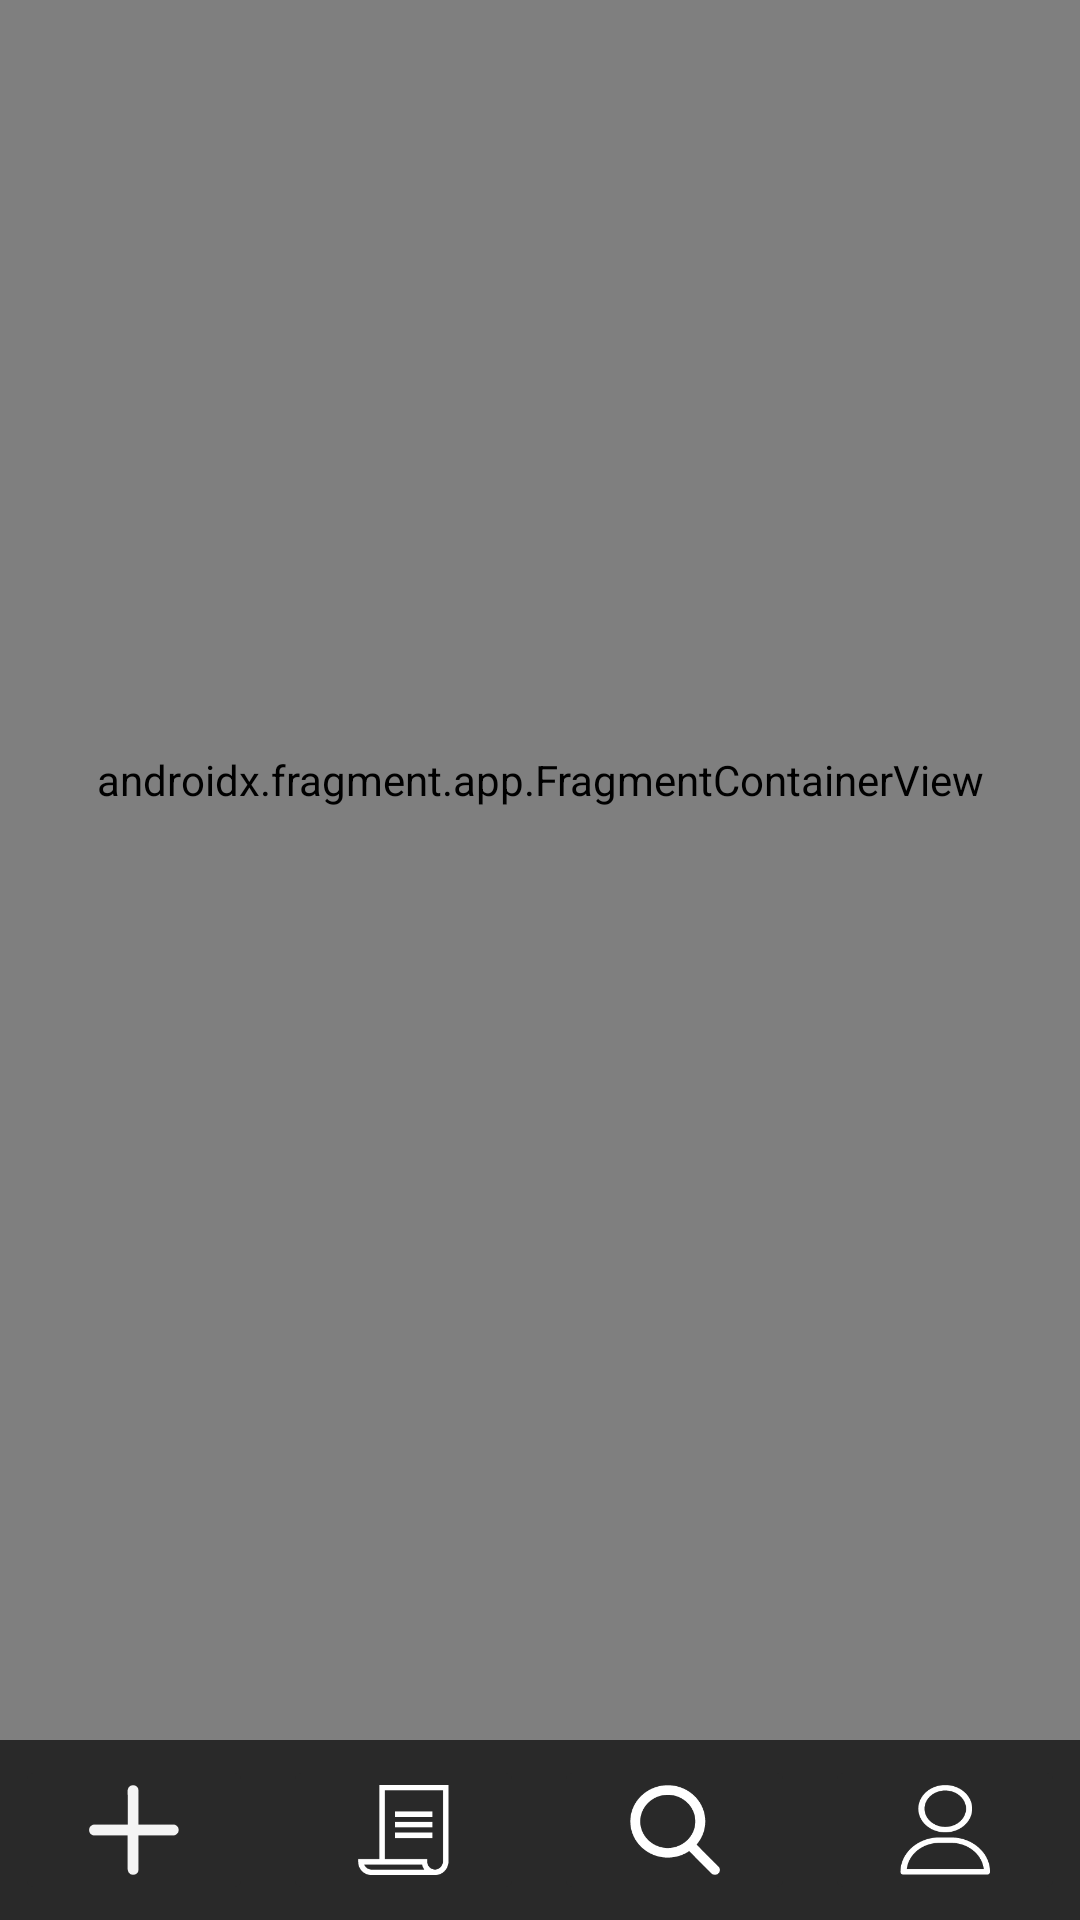

Icons on this 1080w x 1920h Android screen, each with its box as region(x1, y1, x2, y2):
pluswhite: region(89, 1785, 179, 1875)
portfoliowhite: region(358, 1785, 449, 1875)
profilewhite: region(900, 1785, 990, 1875)
searchwhite: region(630, 1785, 720, 1875)
